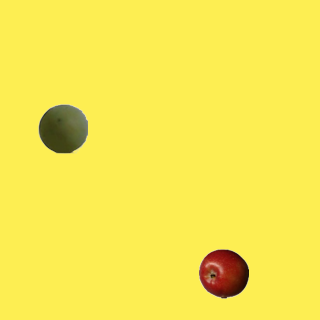Apple Braeburn: (198, 248, 248, 298)
Grape White 4: (37, 103, 87, 153)
